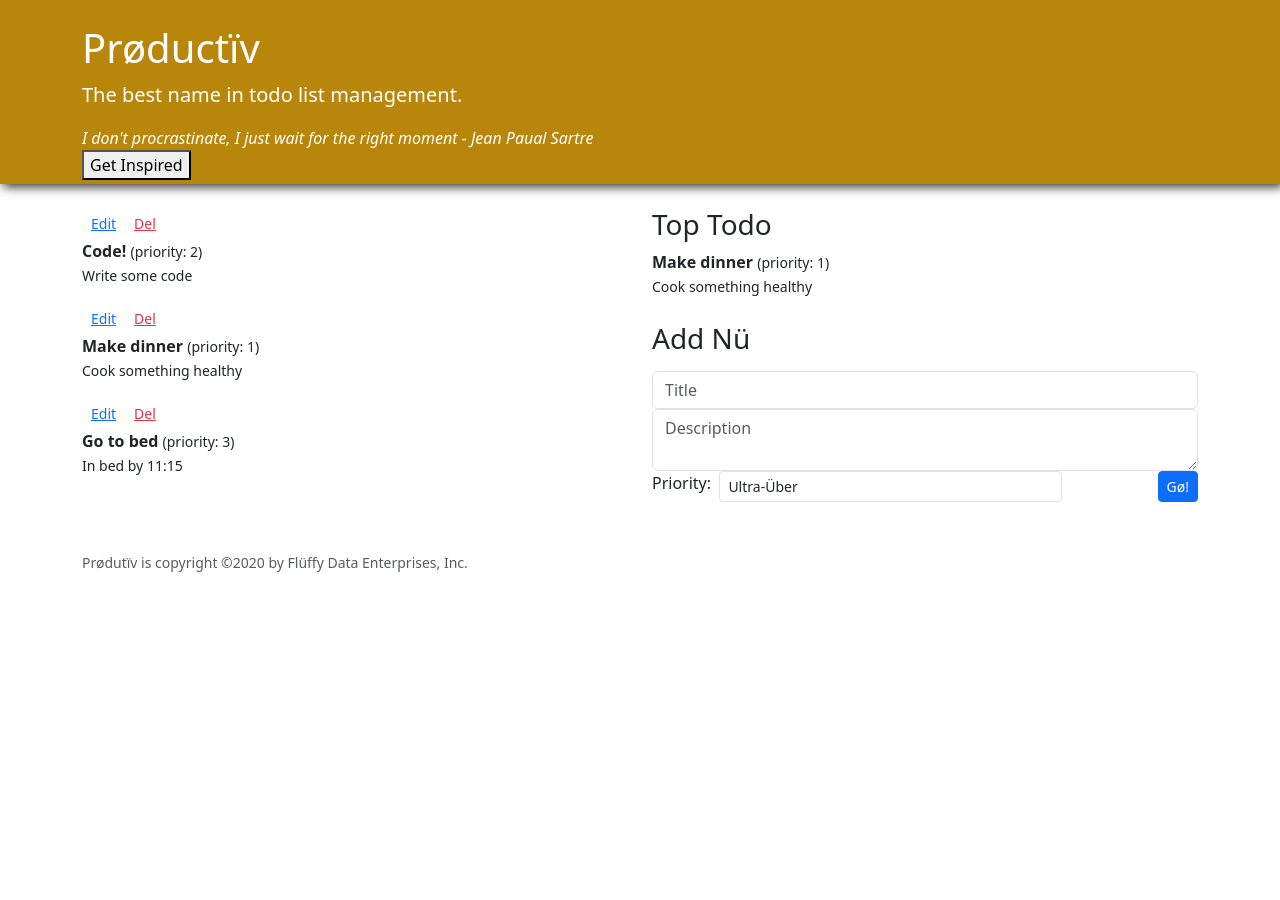
productiv app › adds todo to page after new todo form submission
The width and height of the screenshot is (1280, 900).
Expected: the text "my newest todo was put here" is not shown
Note: submit form
Type "my newest todo was put here" into the field labelled "Title".
click(925, 390); type("my newest todo was put here")  # box top-left (652, 371), bottom-right (1198, 409)
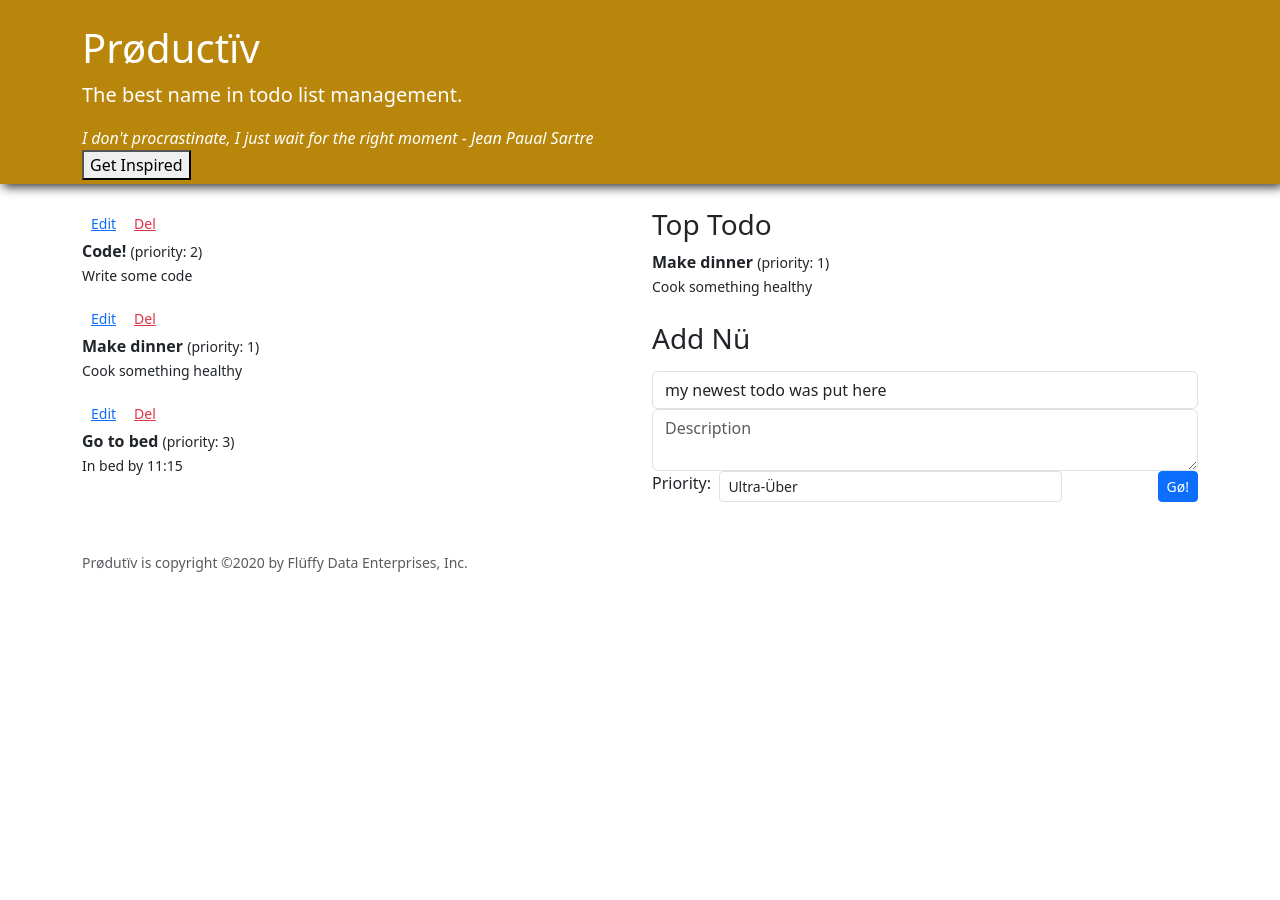
Click the button "Gø!".
click(1178, 487)  # box top-left (1158, 471), bottom-right (1198, 502)
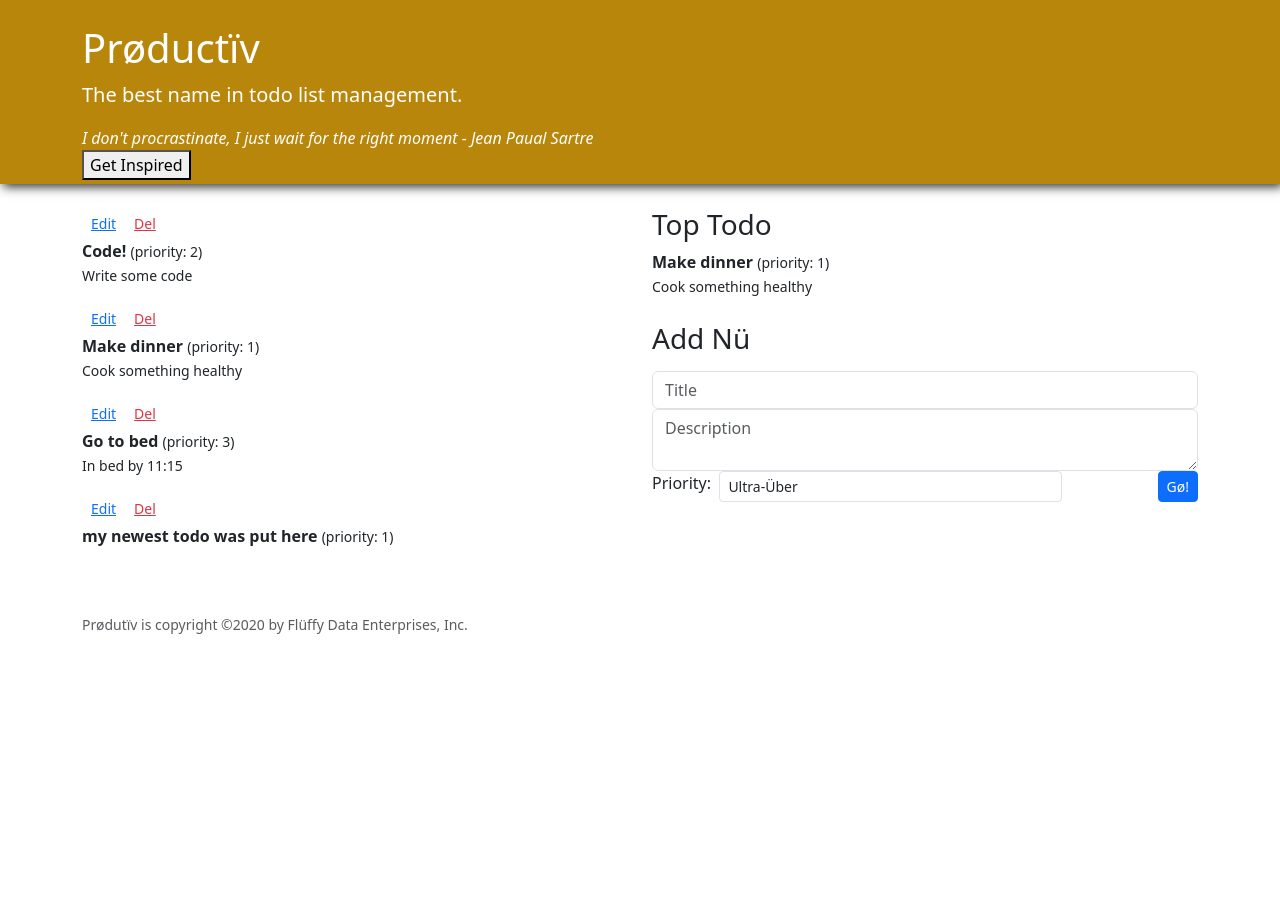
Expected: the text "my newest todo was put here" is shown, top-left (82, 525), bottom-right (318, 547)
